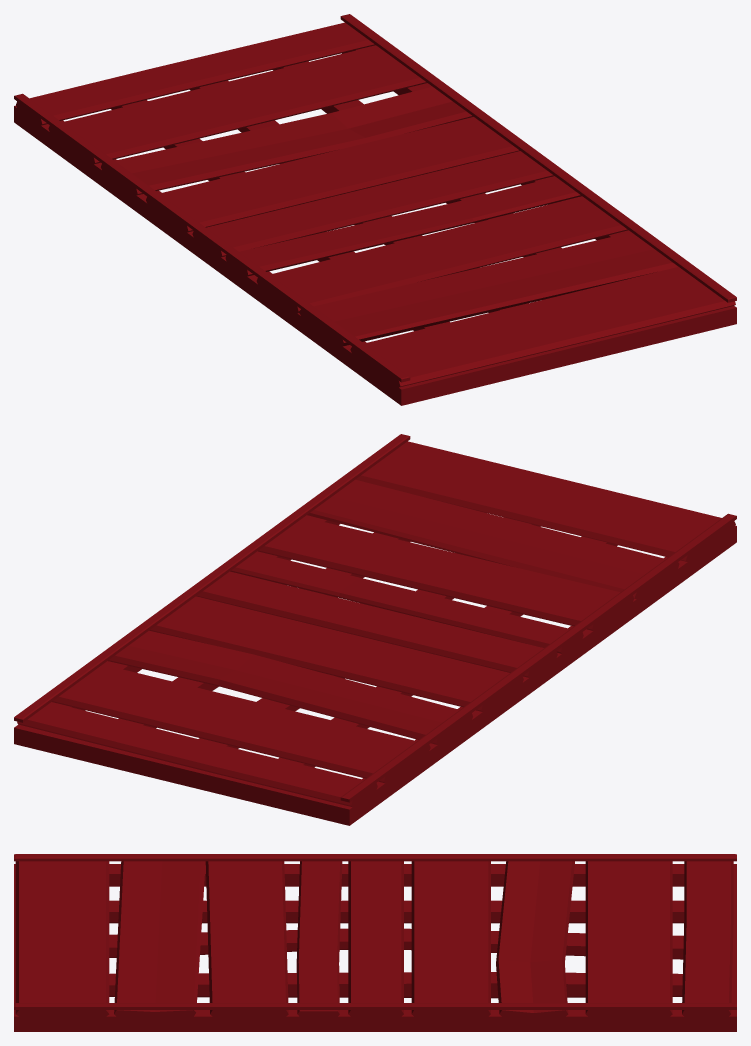
The model's file is SM_MH_01_Wood_Floor_02_Half_02.fbx.
The picture shows the model from 3 angles, top to bottom: view 1: azimuth 30°, elevation 25°; view 2: azimuth 150°, elevation 25°; view 3: azimuth 270°, elevation 25°; orthographic projection. The views are drawn at different scales.
Visible parts, largest first — view 1: SM_MH_01_Wood_Floor_02_Half_02_LOD0; view 2: SM_MH_01_Wood_Floor_02_Half_02_LOD0; view 3: SM_MH_01_Wood_Floor_02_Half_02_LOD0.
Part boxes in pixels (x1=…): SM_MH_01_Wood_Floor_02_Half_02_LOD0: x1=14, y1=14, x2=736, y2=405; SM_MH_01_Wood_Floor_02_Half_02_LOD0: x1=14, y1=434, x2=736, y2=825; SM_MH_01_Wood_Floor_02_Half_02_LOD0: x1=14, y1=854, x2=736, y2=1031.
Size of what is drawn, in the model's own units: 150 by 11.8 by 300.
